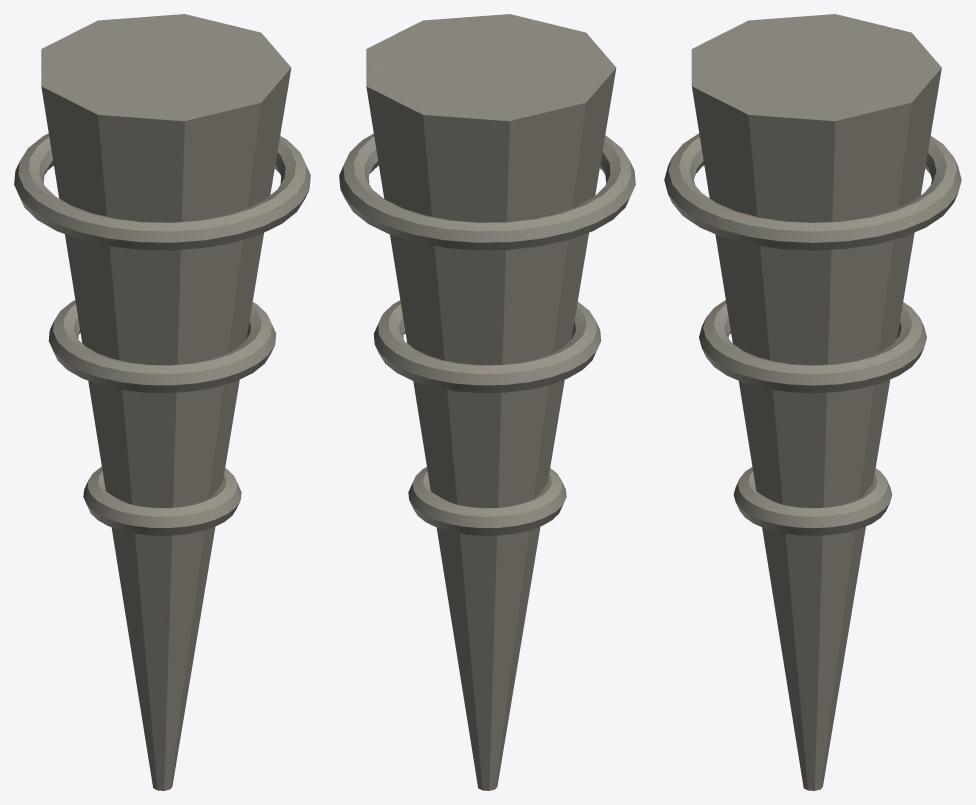
File: stalactite.glb
3 renders of one model, left to right at view 1: azimuth 30°, elevation 25°; view 2: azimuth 150°, elevation 25°; view 3: azimuth 270°, elevation 25°, orthographic.
Parts seen in each view (by area): view 1: spike, ring0, ring1, ring2; view 2: spike, ring0, ring1, ring2; view 3: spike, ring0, ring1, ring2.
Part boxes in pixels (left/top/right/bottom): spike: left=41, top=14, right=291, bottom=790; ring0: left=14, top=133, right=310, bottom=250; ring1: left=48, top=300, right=276, bottom=392; ring2: left=83, top=466, right=241, bottom=535; spike: left=366, top=14, right=616, bottom=790; ring0: left=339, top=133, right=635, bottom=250; ring1: left=373, top=300, right=601, bottom=392; ring2: left=408, top=467, right=566, bottom=535; spike: left=691, top=14, right=941, bottom=790; ring0: left=664, top=133, right=961, bottom=250; ring1: left=699, top=300, right=926, bottom=393; ring2: left=733, top=467, right=892, bottom=535.
Size of the model in its own units: 0.6 by 1.6 by 0.6.
Materials: 1 (1 with a texture image).
